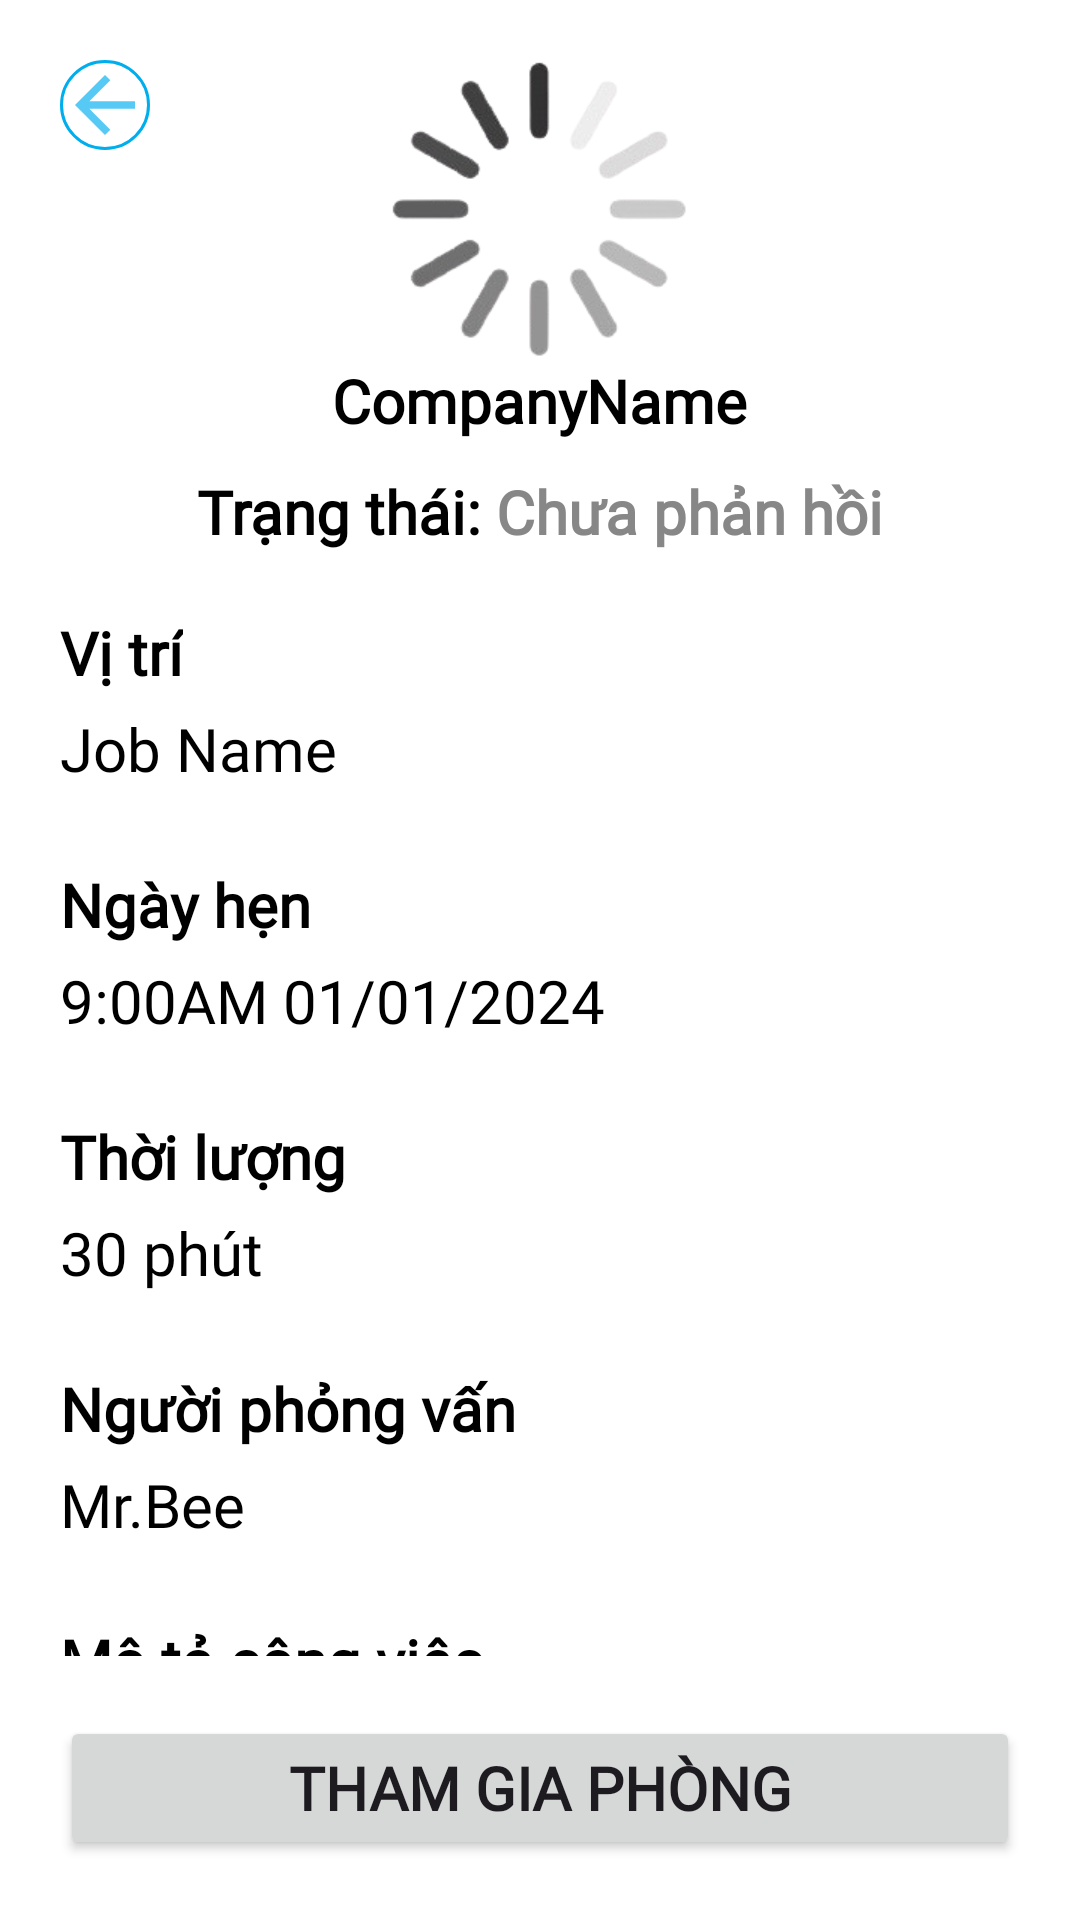

Icon click points for this 1080px x 1920px phone screenshot, format [x,y]:
arrow back: [105,105]
loading: [539,209]
